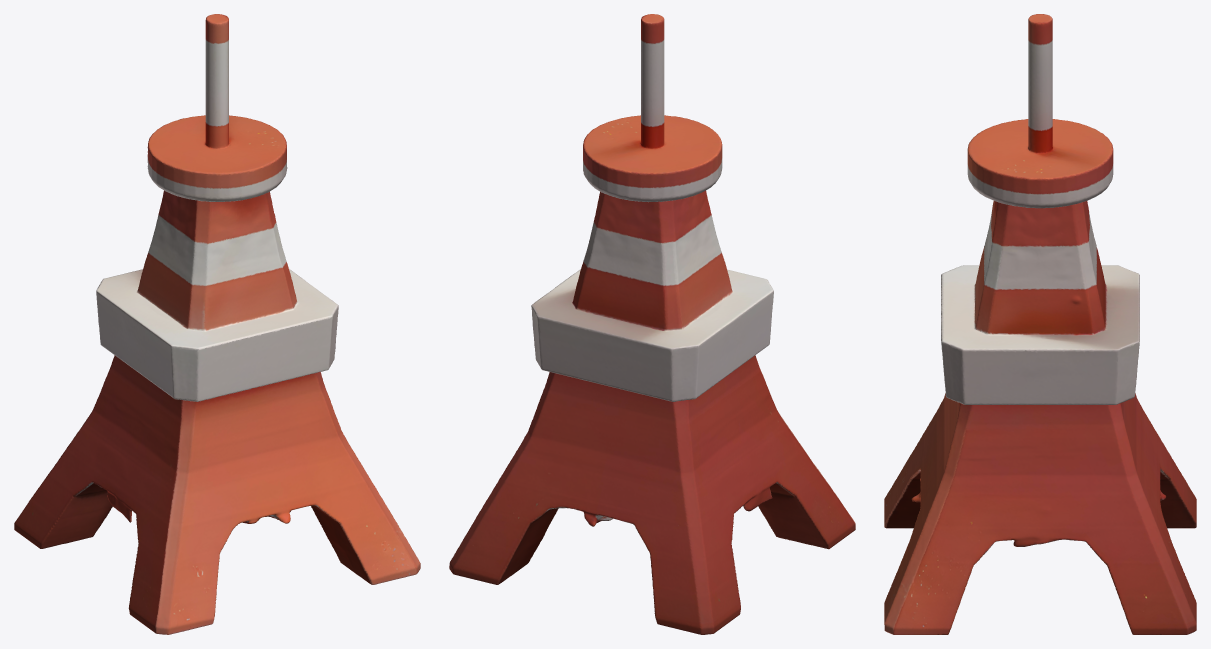
File: orange_rocket_opt.glb
3 renders of one model, left to right at view 1: azimuth 30°, elevation 25°; view 2: azimuth 150°, elevation 25°; view 3: azimuth 270°, elevation 25°, orthographic. The views are drawn at different scales.
Visible parts, largest first — view 1: tripo_node_c192d2b2-6785-487b-88fb-f62af79b2907; view 2: tripo_node_c192d2b2-6785-487b-88fb-f62af79b2907; view 3: tripo_node_c192d2b2-6785-487b-88fb-f62af79b2907.
Boxes of the visible parts, <box> form: tripo_node_c192d2b2-6785-487b-88fb-f62af79b2907: <box>14,14,420,634</box>; tripo_node_c192d2b2-6785-487b-88fb-f62af79b2907: <box>449,14,855,634</box>; tripo_node_c192d2b2-6785-487b-88fb-f62af79b2907: <box>884,14,1196,634</box>.
Bounding box in the file's own units: 0.5213 × 1 × 0.5149.
1 material, 1 textured.
